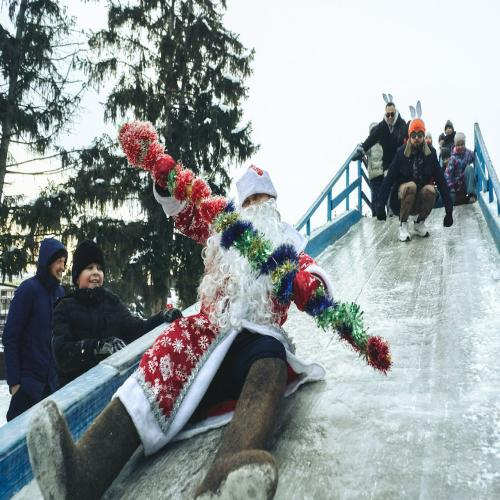Santa: (27, 162, 331, 500)
